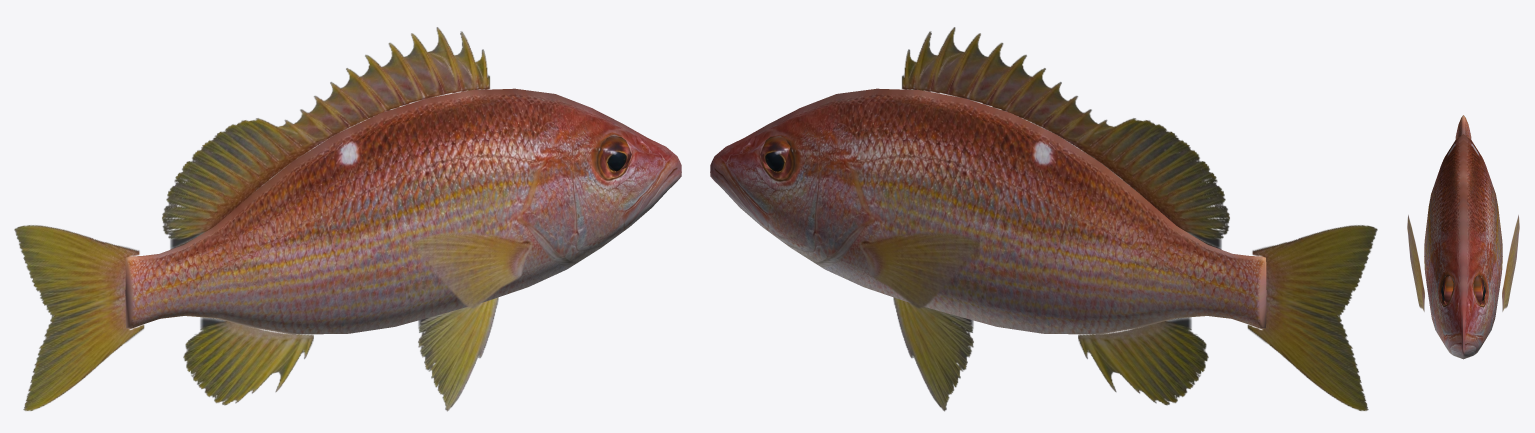
Rendered from shibudai_lo.glb.
The picture shows the model from 3 angles, left to right: view 1: azimuth 30°, elevation 25°; view 2: azimuth 150°, elevation 25°; view 3: azimuth 270°, elevation 25°; orthographic projection. The views are drawn at different scales.
Visible parts, largest first — view 1: shibudai; view 2: shibudai; view 3: shibudai.
Boxes of the visible parts, x1,y1,x2,y2 form: shibudai: (14, 27, 681, 411); shibudai: (710, 27, 1377, 411); shibudai: (1407, 115, 1519, 359).
Size of the model in its own units: 0.4006 by 0.2221 by 0.0813.
1 material, 1 textured.
